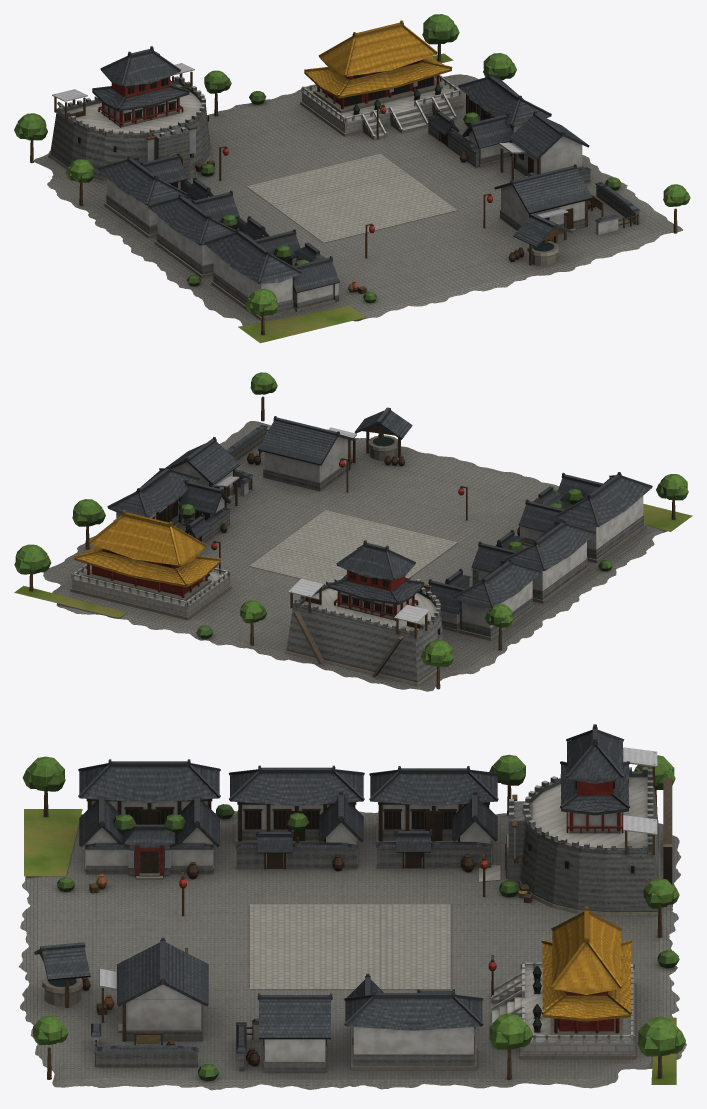
Rendered from gunpowder-town-small-a-sinic.glb.
3 renders of one model, top to bottom at view 1: azimuth 30°, elevation 25°; view 2: azimuth 150°, elevation 25°; view 3: azimuth 270°, elevation 25°, orthographic. The views are drawn at different scales.
Parts seen in each view (by area): view 1: LOD0; view 2: LOD0; view 3: LOD0.
Boxes of the visible parts, bbox=[...] form: LOD0: bbox=[14, 14, 690, 343]; LOD0: bbox=[14, 372, 692, 691]; LOD0: bbox=[18, 724, 686, 1090].
Size of what is drawn, in the model's own units: 4.02 by 0.9629 by 4.06.
3 materials, 3 textured.
